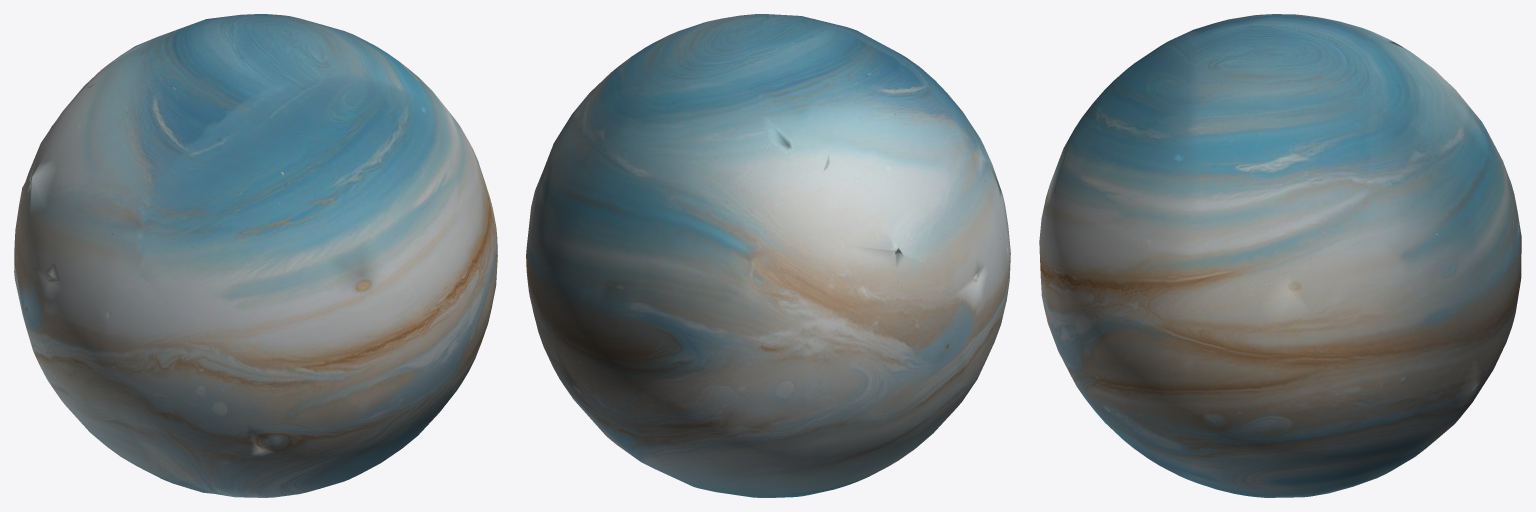
Rendered from europa.glb.
3 views of the same model, side by side, from view 1: azimuth 30°, elevation 25°; view 2: azimuth 150°, elevation 25°; view 3: azimuth 270°, elevation 25° (orthographic).
Bounding box in the file's own units: 2 × 2 × 1.99.
Materials: 1 (1 with a texture image).
